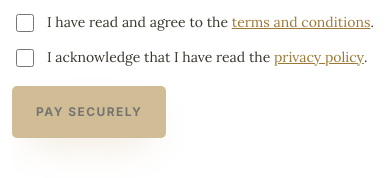
Scenario: PayButton › does not silently succeed when the gateway script loads without Checkout
Click the checkbox labelled "I have read and agree to the terms and conditions ." at (25, 23), box [16, 14, 34, 32]
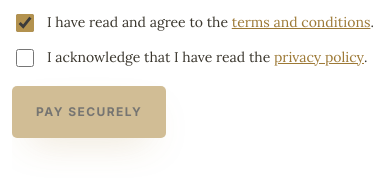
Click the checkbox labelled "I acknowledge that I have read the privacy policy ." at (25, 58), box [16, 49, 34, 67]
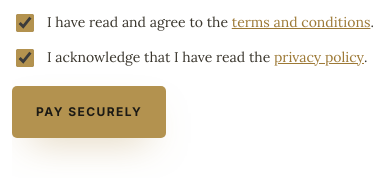
Click the button "Pay securely" at (89, 112), box [12, 86, 166, 138]
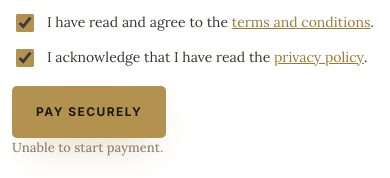
expect the text "Unable to start payment." is shown: met, box [12, 139, 163, 156]
